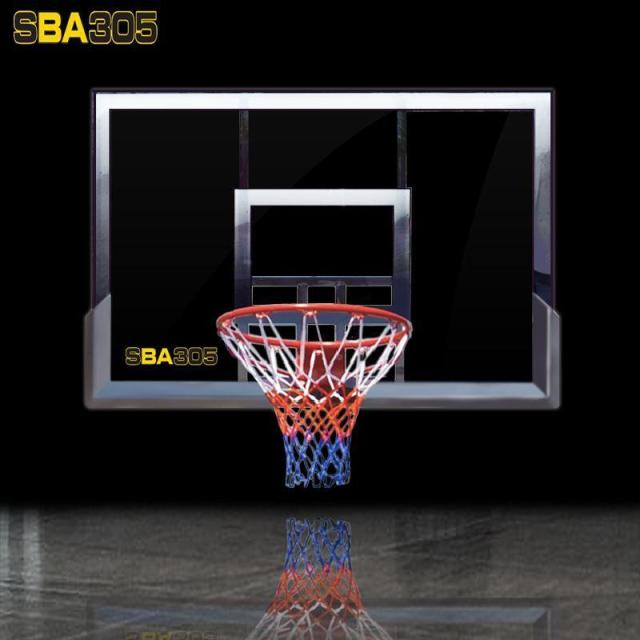rim: (218, 304, 410, 487)
